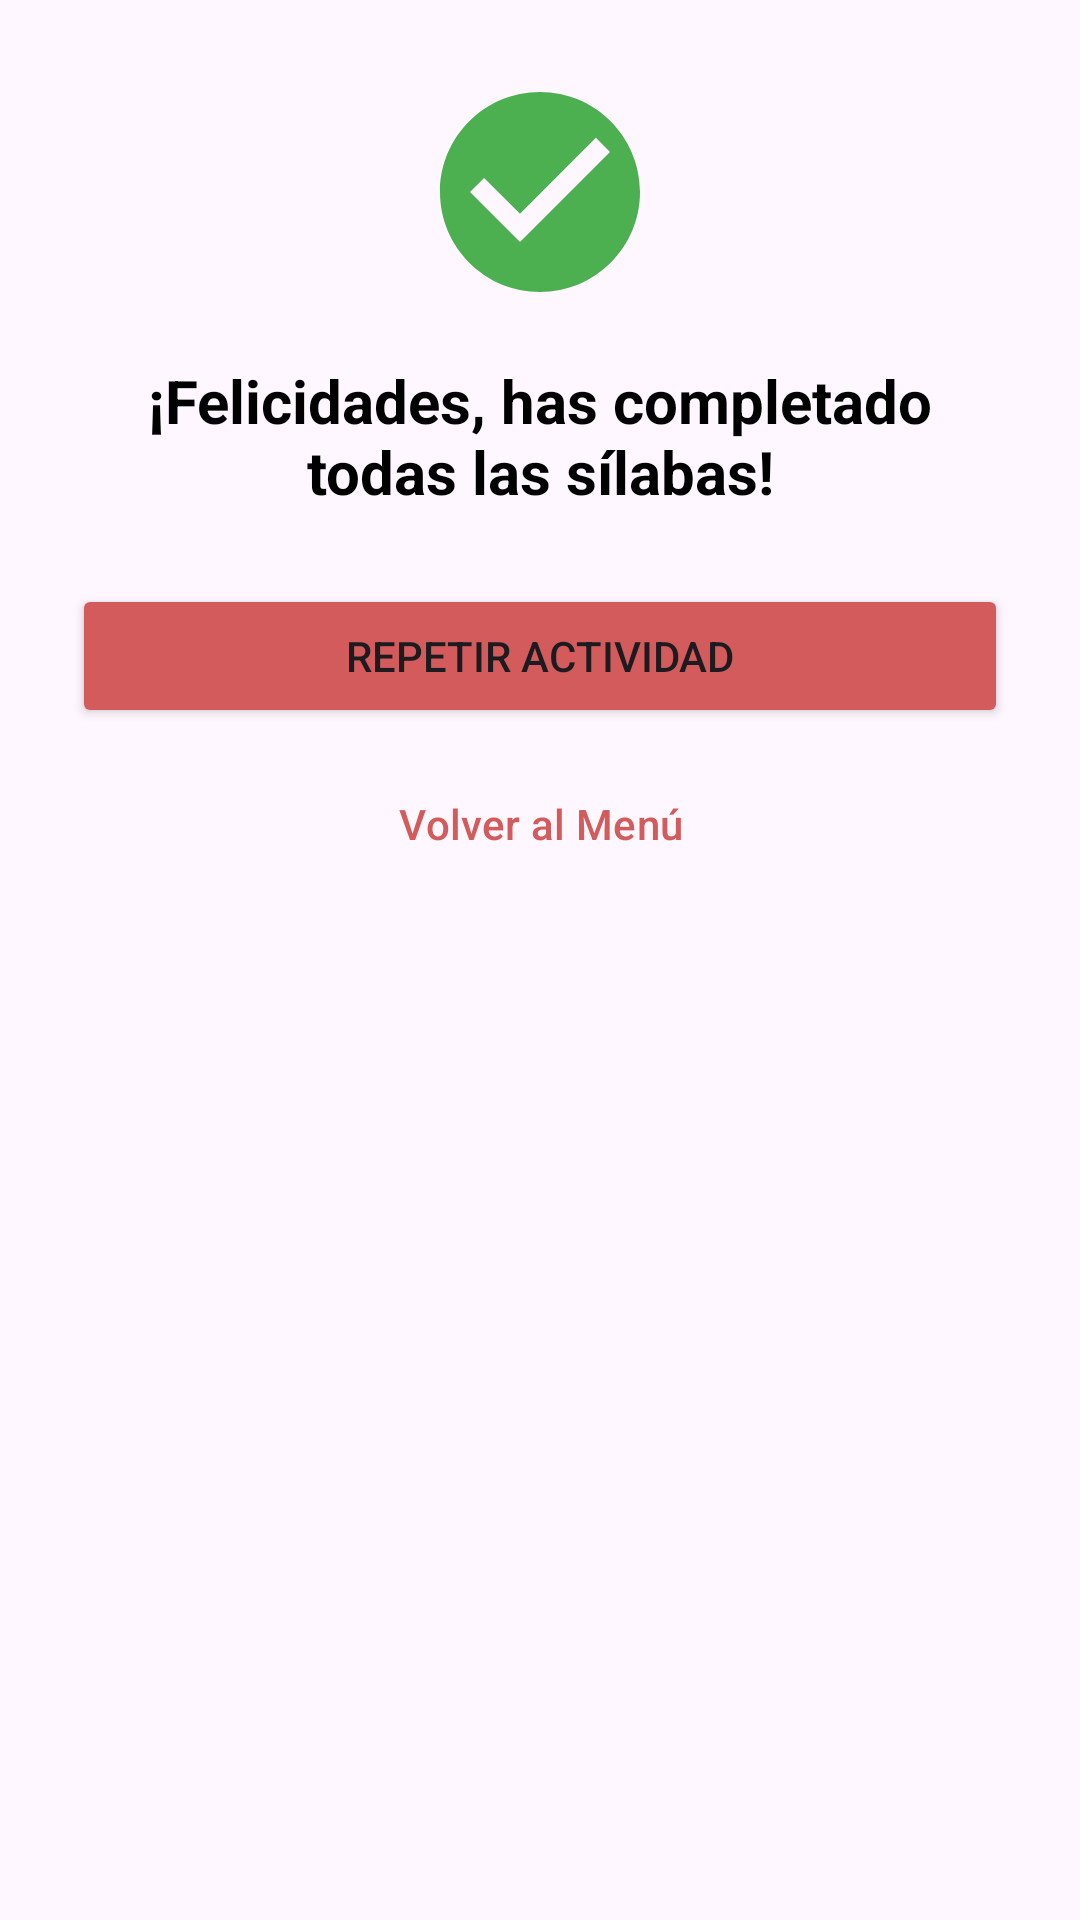

Named icons in this screenshot (1080*1920) and their centers, (x=x, y=y):
Icono de completado: (x=540, y=192)
